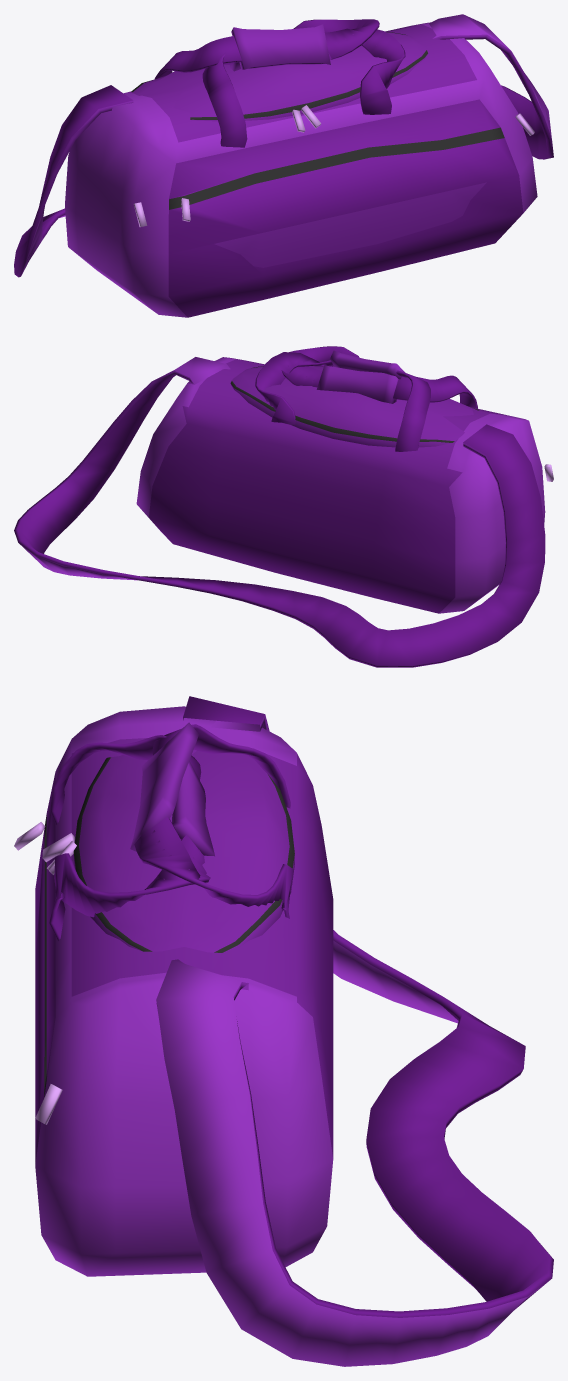
Rendered from SM_BackPack_23.fbx.
The picture shows the model from 3 angles, top to bottom: view 1: azimuth 30°, elevation 25°; view 2: azimuth 150°, elevation 25°; view 3: azimuth 270°, elevation 25°; orthographic projection. The views are drawn at different scales.
Parts seen in each view (by area): view 1: SM_BackPack_23; view 2: SM_BackPack_23; view 3: SM_BackPack_23.
Part boxes in pixels (x1,y1,x2,y2): SM_BackPack_23: (14,14,553,317); SM_BackPack_23: (14,346,553,667); SM_BackPack_23: (14,696,553,1366).
Size of the model in its own units: 193 by 85.94 by 106.
